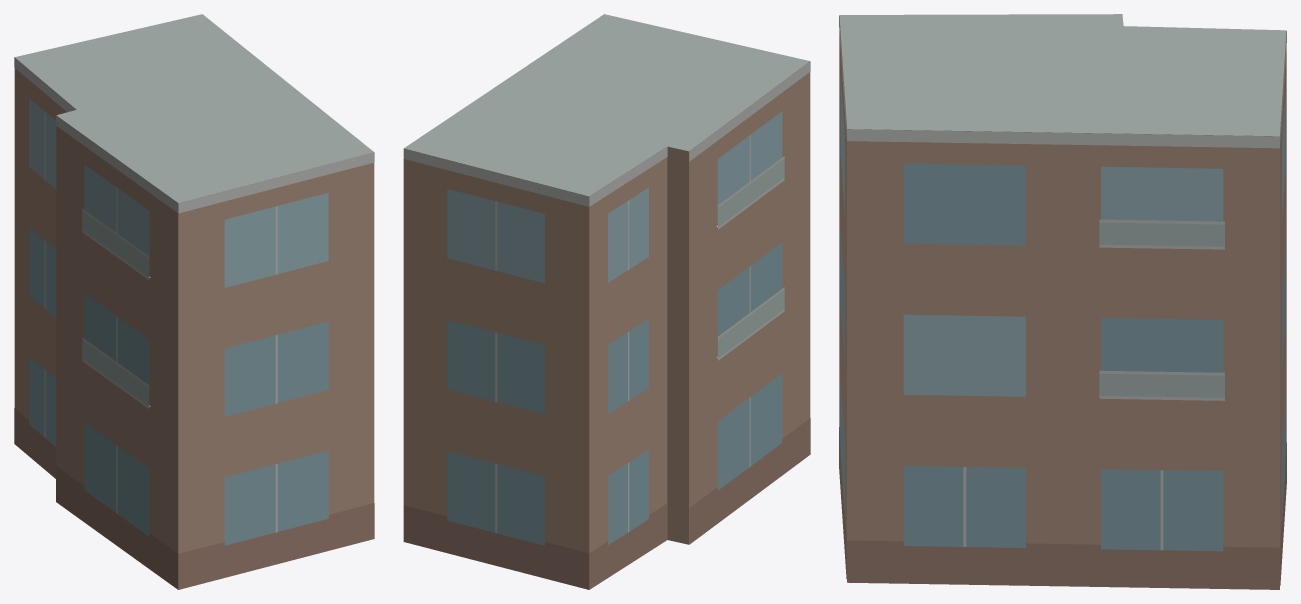
The model's file is survey-upis-32510332.glb.
3 renders of one model, left to right at view 1: azimuth 30°, elevation 25°; view 2: azimuth 150°, elevation 25°; view 3: azimuth 270°, elevation 25°, orthographic. The views are drawn at different scales.
Visible parts, largest first — view 1: survey-upis-32510332.tmp; view 2: survey-upis-32510332.tmp; view 3: survey-upis-32510332.tmp.
Part boxes in pixels (left/top/right/bottom): survey-upis-32510332.tmp: left=14, top=14, right=374, bottom=589; survey-upis-32510332.tmp: left=403, top=14, right=810, bottom=589; survey-upis-32510332.tmp: left=839, top=14, right=1286, bottom=589.
Bounding box in the file's own units: 5.32 × 9.15 × 8.19.
